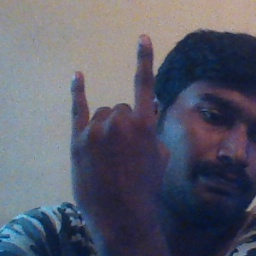V: (66, 30, 173, 206)
